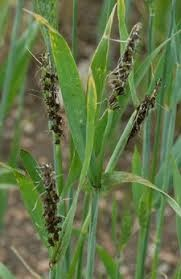Wheat Loose Smut: (101, 25, 171, 136), (33, 161, 67, 236)
